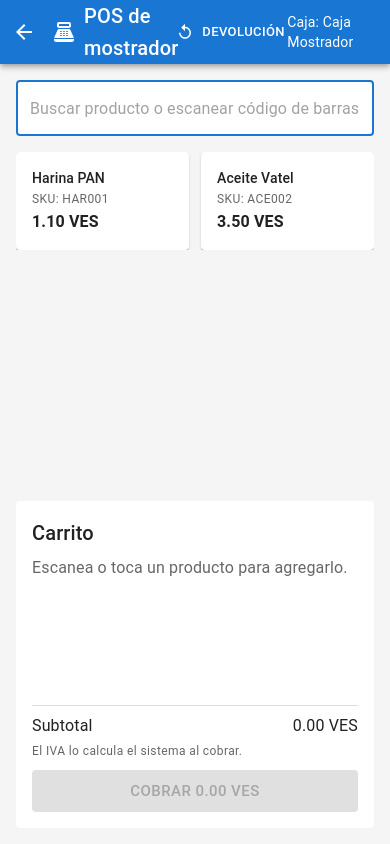
Scenario: PosPage › agrega productos al carrito por búsqueda incremental + click
The width and height of the screenshot is (390, 844).
Expected: the heading "Harina PAN" is shown, 32,170 -> 105,186
// Búsqueda incremental: filtra la grilla.
Type "aceite" into the field with test id "pos-busqueda". click: point(195, 108)
box: 16,80 -> 374,136
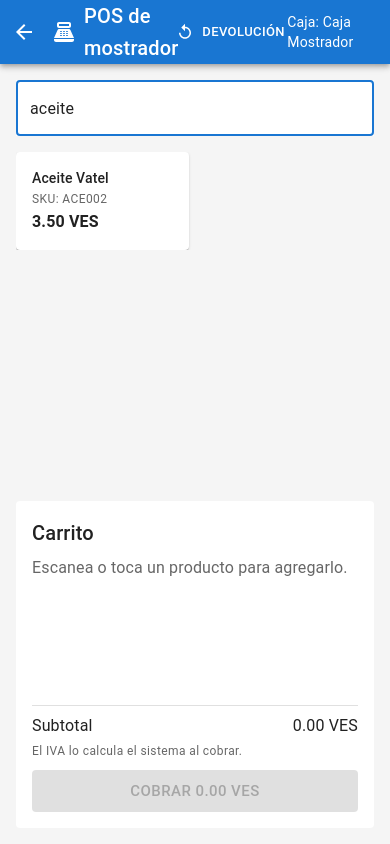
Expected: the button "Harina PAN" is gone
Click the heading "Aceite Vatel". click: point(70, 178)
box: 32,170 -> 109,186
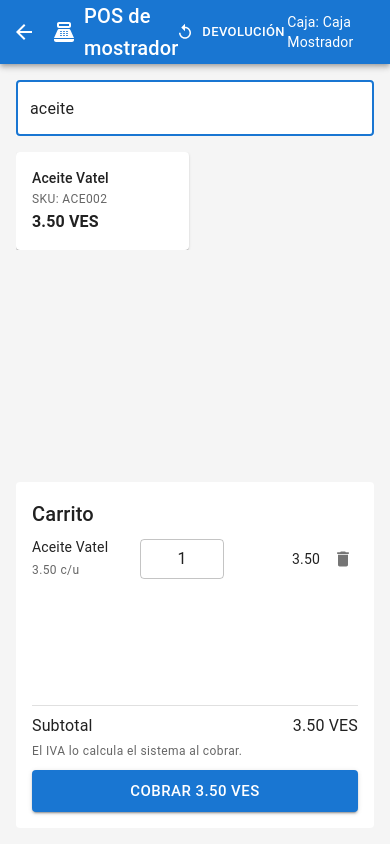
Expected: the text "Aceite Vatel" is shown, 32,539 -> 108,555
Expected: the text with test id "pos-subtotal" shows "3.50", 293,716 -> 325,735
